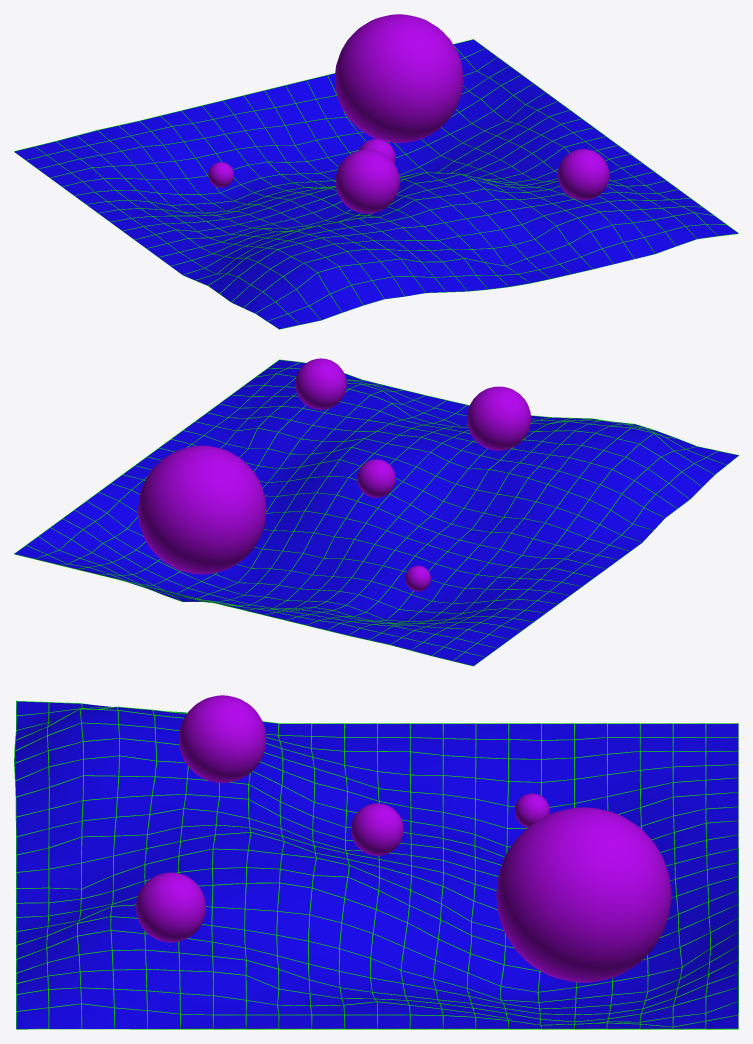
File: SpaceTimeFabricOrnament_Commission_DNB.fbx
The picture shows the model from 3 angles, top to bottom: view 1: azimuth 30°, elevation 25°; view 2: azimuth 150°, elevation 25°; view 3: azimuth 270°, elevation 25°; orthographic projection. The views are drawn at different scales.
Parts seen in each view (by area): view 1: SpacetimeFabric, PlanetSyip, PlanetSyip.002, PlanetSyip.003, PlanetSyip.001; view 2: SpacetimeFabric, PlanetSyip, PlanetSyip.002, PlanetSyip.003, PlanetSyip.004, PlanetSyip.001; view 3: SpacetimeFabric, PlanetSyip, PlanetSyip.002, PlanetSyip.003, PlanetSyip.004, PlanetSyip.001.
Part boxes in pixels (left/top/right/bottom): SpacetimeFabric: left=14, top=39, right=738, bottom=329; PlanetSyip: left=335, top=14, right=463, bottom=142; PlanetSyip.002: left=335, top=149, right=399, bottom=213; PlanetSyip.003: left=558, top=149, right=609, bottom=200; PlanetSyip.001: left=208, top=162, right=233, bottom=187; SpacetimeFabric: left=14, top=359, right=738, bottom=666; PlanetSyip: left=138, top=445, right=266, bottom=574; PlanetSyip.002: left=467, top=386, right=530, bottom=450; PlanetSyip.003: left=295, top=358, right=346, bottom=409; PlanetSyip.004: left=357, top=459, right=395, bottom=497; PlanetSyip.001: left=405, top=565, right=430, bottom=591; SpacetimeFabric: left=14, top=700, right=738, bottom=1029; PlanetSyip: left=496, top=807, right=671, bottom=982; PlanetSyip.002: left=178, top=695, right=266, bottom=782; PlanetSyip.003: left=136, top=872, right=205, bottom=942; PlanetSyip.004: left=351, top=803, right=403, bottom=855; PlanetSyip.001: left=514, top=793, right=549, bottom=827.
Size of the model in its own units: 14.01 by 4.21 by 14.05.
